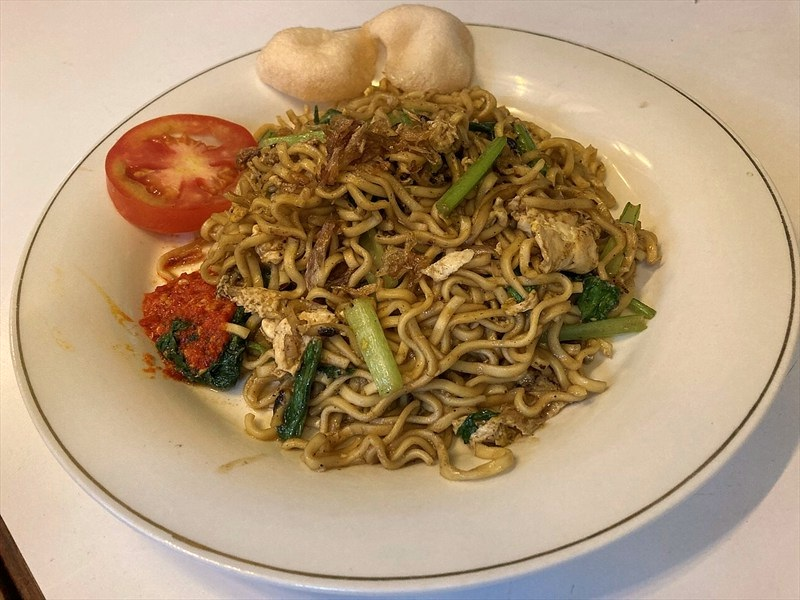Mie Goreng: (137, 99, 633, 461)
